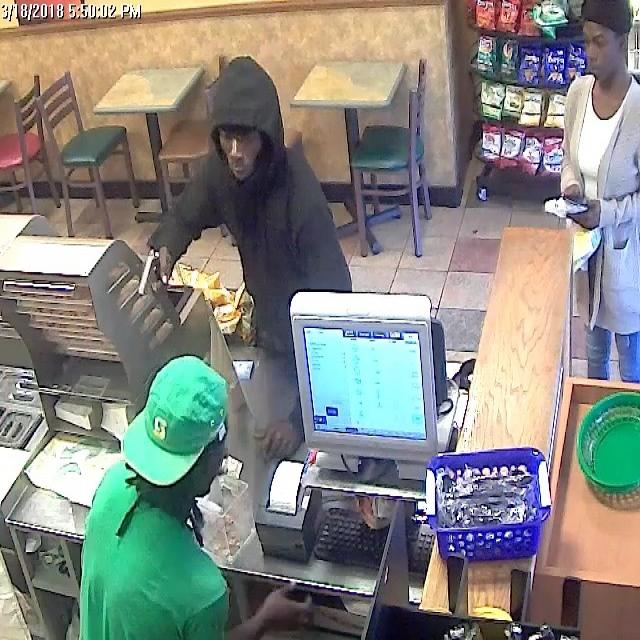gun: (132, 248, 174, 298)
